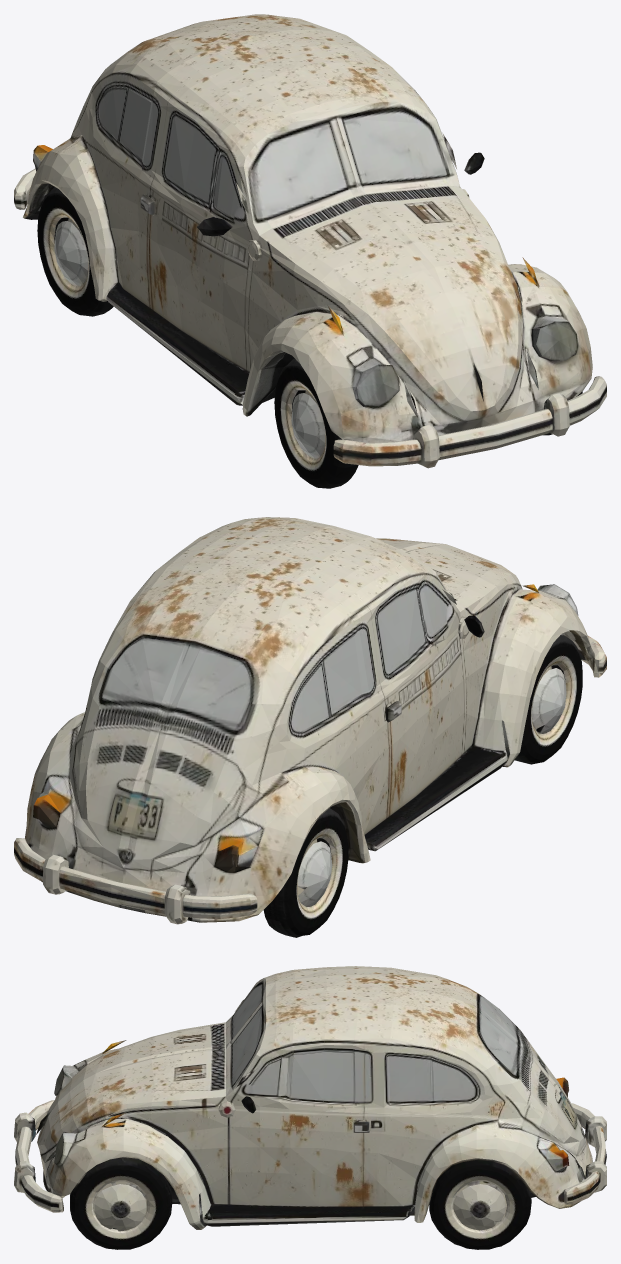
The model's file is VEH_M_WhiteBug.glb.
3 renders of one model, top to bottom at view 1: azimuth 30°, elevation 25°; view 2: azimuth 150°, elevation 25°; view 3: azimuth 270°, elevation 25°, orthographic. The views are drawn at different scales.
Parts seen in each view (by area): view 1: VEH_M_WhiteBug; view 2: VEH_M_WhiteBug; view 3: VEH_M_WhiteBug.
Boxes of the visible parts, box(x1,y1,x2,y2) form: VEH_M_WhiteBug: box(14, 14, 606, 488); VEH_M_WhiteBug: box(14, 517, 606, 937); VEH_M_WhiteBug: box(14, 966, 606, 1249).
Bounding box in the file's own units: 1.74 × 1.68 × 4.1.
1 material, 1 textured.
